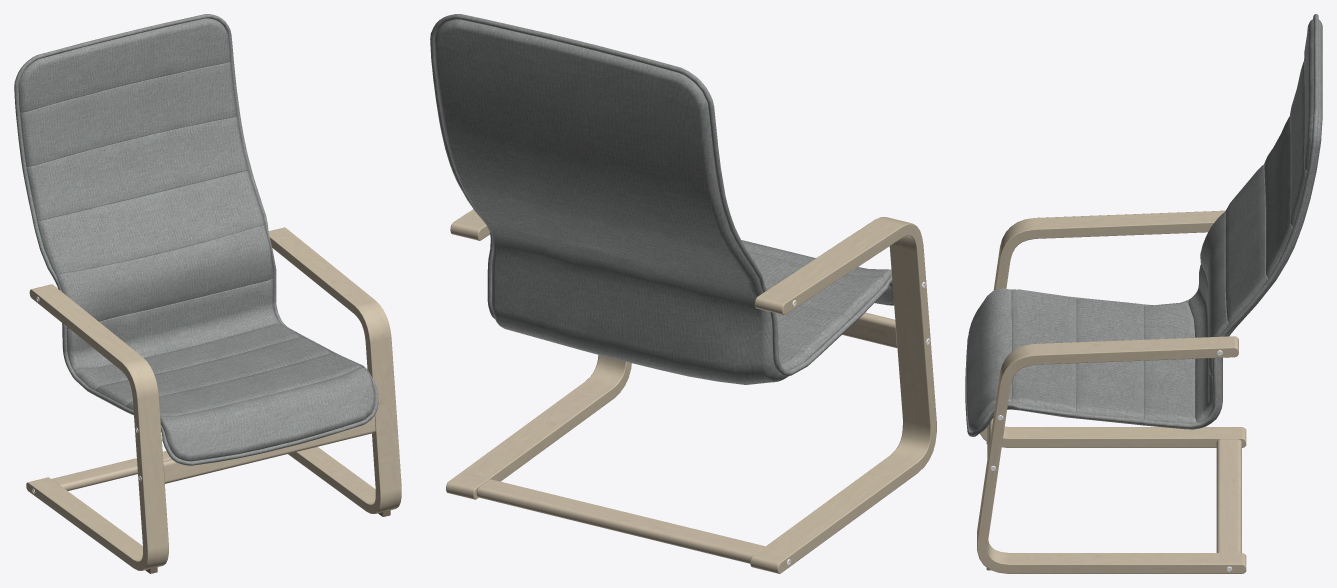
The model's file is 17 - ÅRSUNDA - 扶手椅，Knisa 淺灰色 IKEA 線上購物.glb.
The picture shows the model from 3 angles, left to right: view 1: azimuth 30°, elevation 25°; view 2: azimuth 150°, elevation 25°; view 3: azimuth 270°, elevation 25°; orthographic projection. The views are drawn at different scales.
Parts seen in each view (by area): view 1: Mesh_0; view 2: Mesh_0; view 3: Mesh_0.
Boxes of the visible parts, x1=… form: Mesh_0: x1=14, y1=14, x2=401, y2=573; Mesh_0: x1=430, y1=14, x2=936, y2=573; Mesh_0: x1=965, y1=14, x2=1322, y2=573.
Size of the model in its own units: 0.6622 by 0.996 by 0.723.
1 material, 1 textured.
